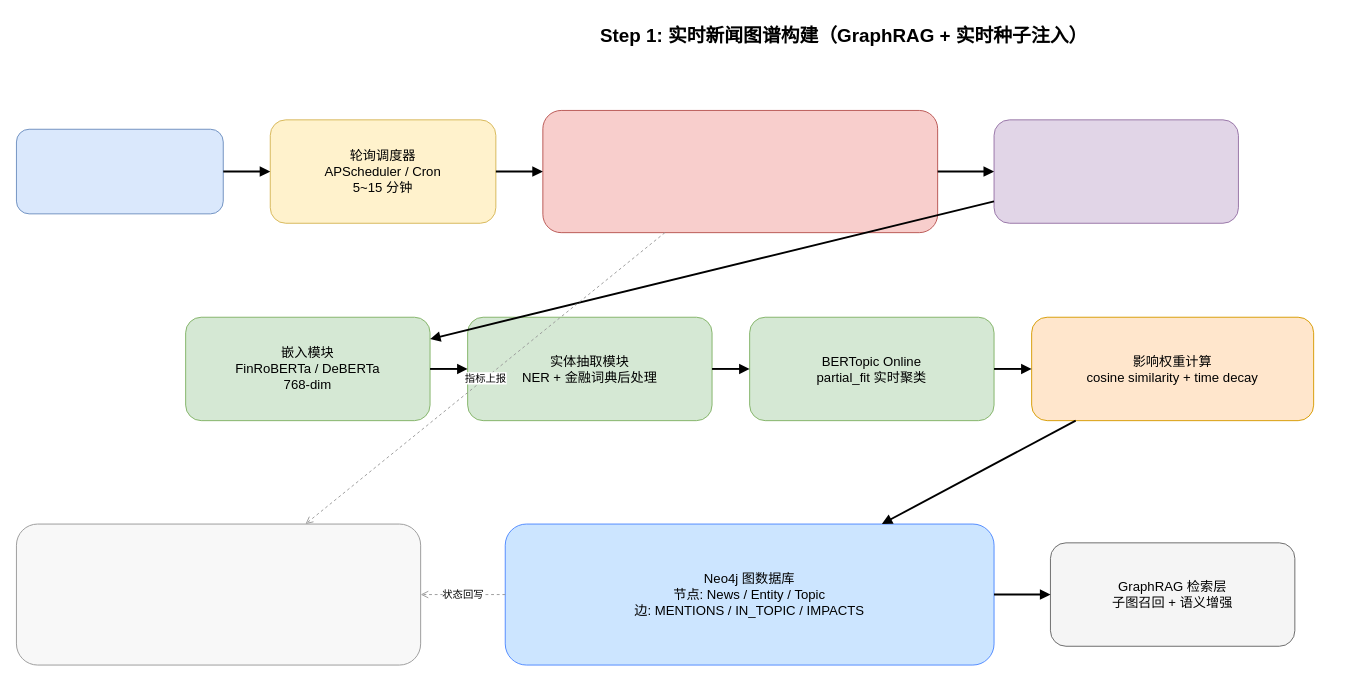
Some shapes in this 1368 by 682 pixel diagram are drawn without their labels. Each missing label, with the box of its shape:
LangGraph Orchestrator fetch → dedup → embed → NER → topic → upsert: (542, 110, 938, 233)
增量去重 / Checkpoint url_hash + published_at: (993, 119, 1238, 223)
新闻源 RSS / API / 爬虫: (16, 128, 223, 214)
监控与日志 批次耗时 / 失败重试 / 入图计数: (16, 523, 421, 665)
